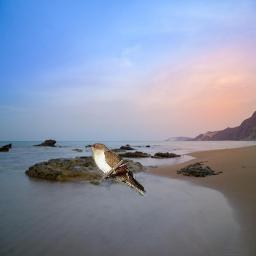Cuckoo: (85, 143, 146, 196)
